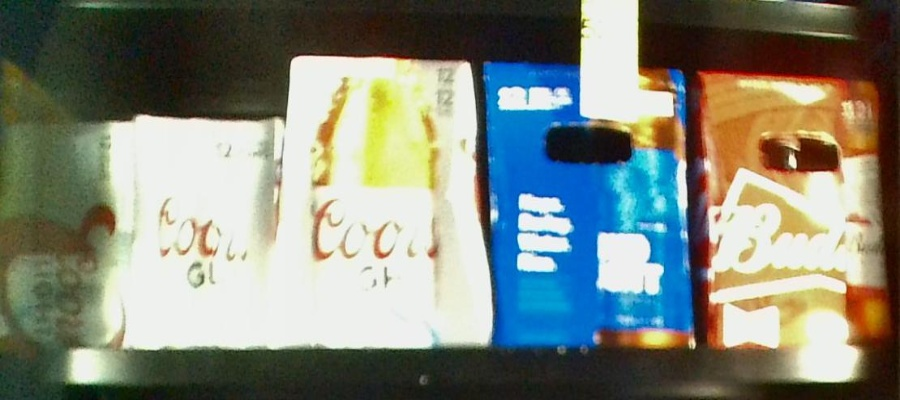bottle: (486, 59, 692, 350), (284, 58, 485, 347), (693, 65, 890, 342), (131, 116, 277, 345), (1, 116, 129, 353)
